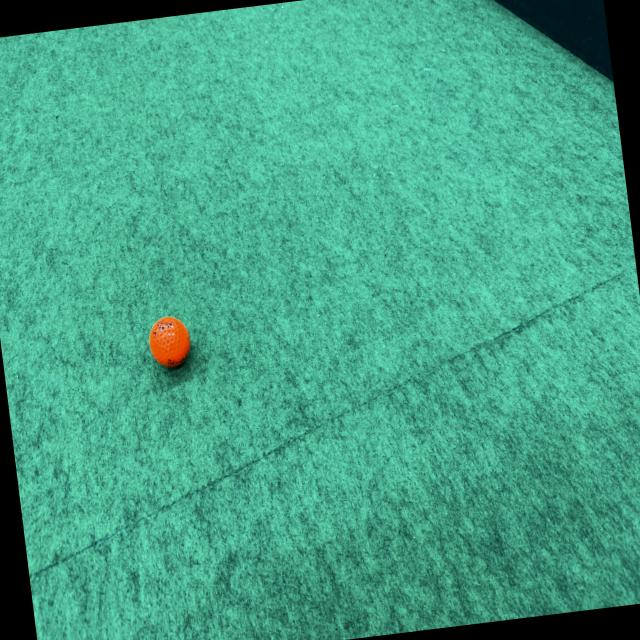ball: (144, 312, 194, 372)
